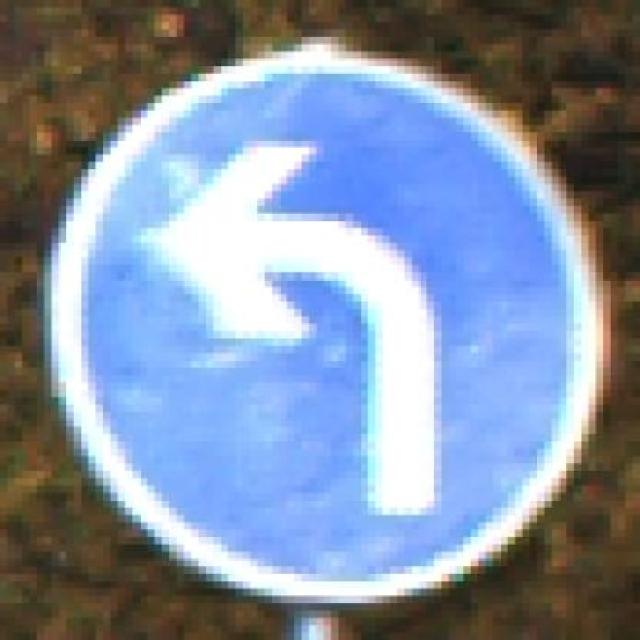Turn left ahead: (44, 36, 625, 633)
